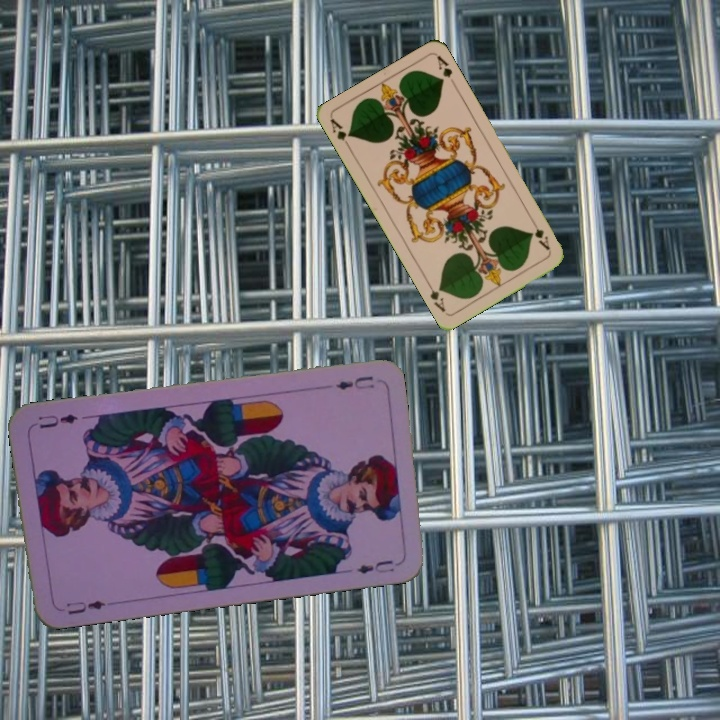EU: (62, 596, 108, 617), (331, 372, 377, 392)
GA: (326, 115, 354, 152), (528, 224, 553, 253)
